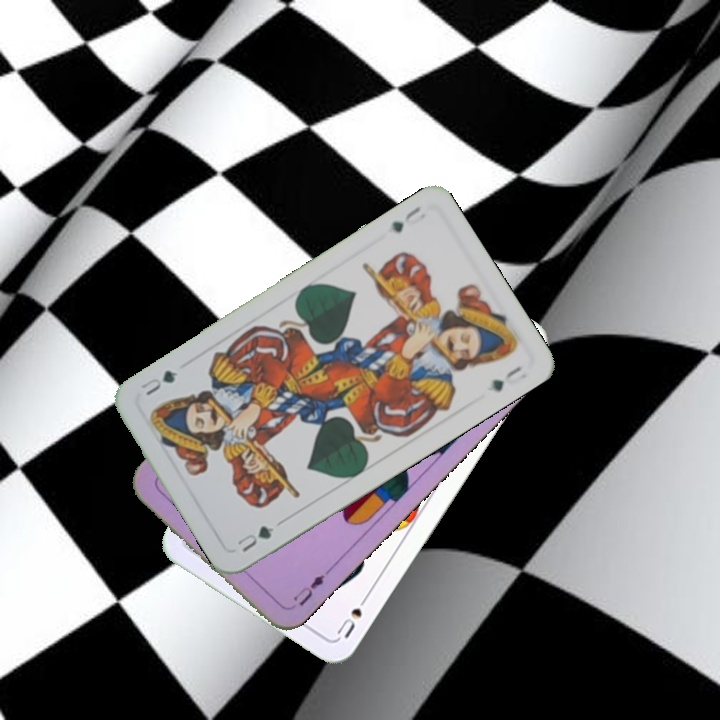EU: (288, 565, 332, 609)
GU: (233, 521, 277, 555), (387, 201, 429, 236)
SU: (332, 588, 373, 641)
